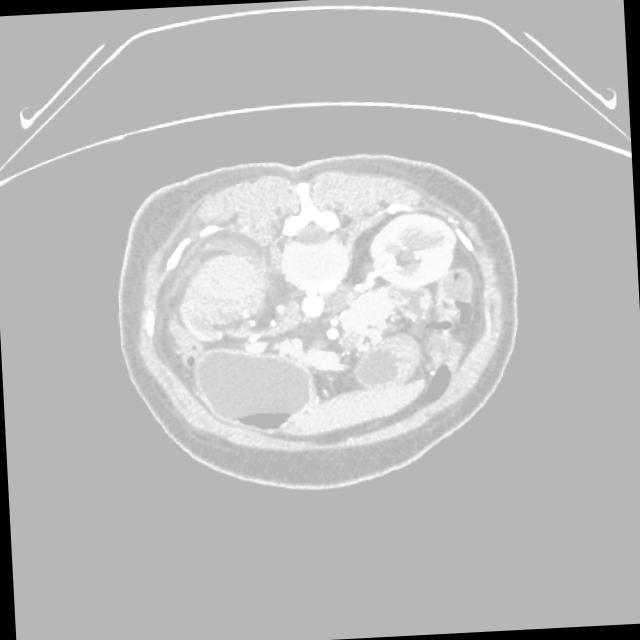TUMOR: (200, 261, 535, 475)
